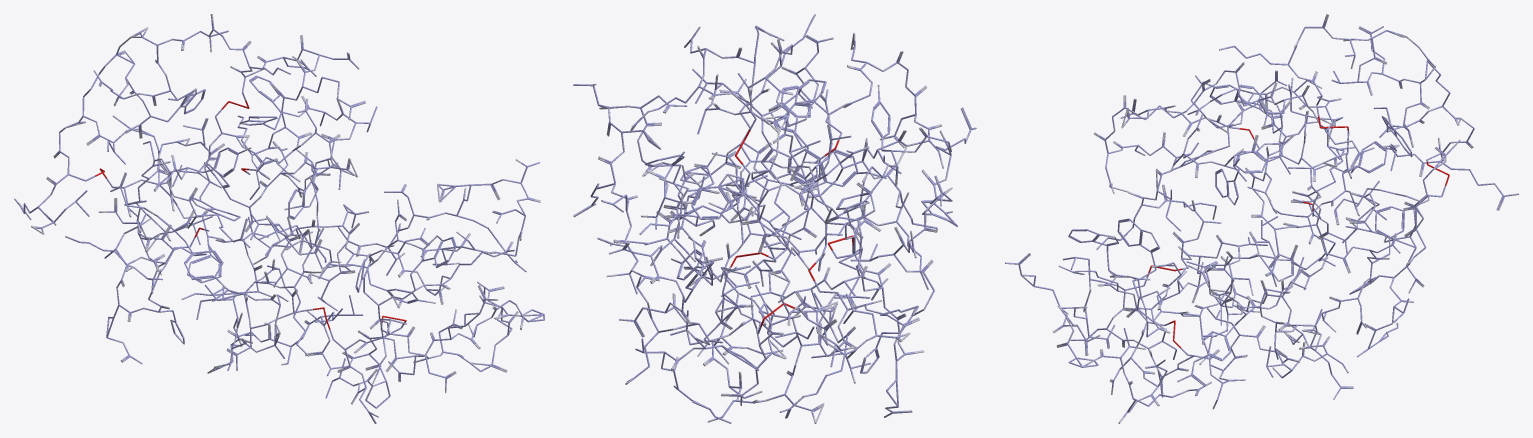
The model's file is 1lyz__lines__b-factor.glb.
The picture shows the model from 3 angles, left to right: view 1: azimuth 30°, elevation 25°; view 2: azimuth 150°, elevation 25°; view 3: azimuth 270°, elevation 25°; orthographic projection. The views are drawn at different scales.
Visible parts, largest first — view 1: Renderer Node; view 2: Renderer Node; view 3: Renderer Node.
Boxes of the visible parts, box(x1,y1,x2,y2) form: Renderer Node: box(14, 14, 544, 423); Renderer Node: box(573, 14, 976, 423); Renderer Node: box(1005, 14, 1518, 423).
Bounding box in the file's own units: 38.73 × 32.84 × 44.17.
